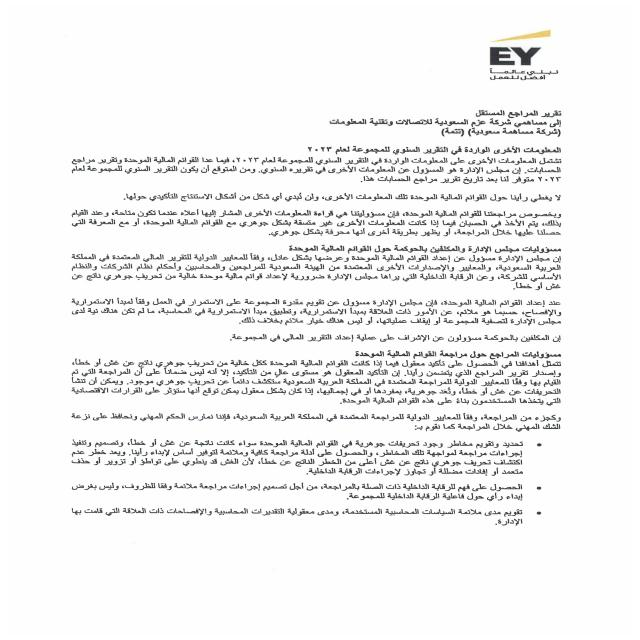auditor_report: (471, 109, 565, 119)
